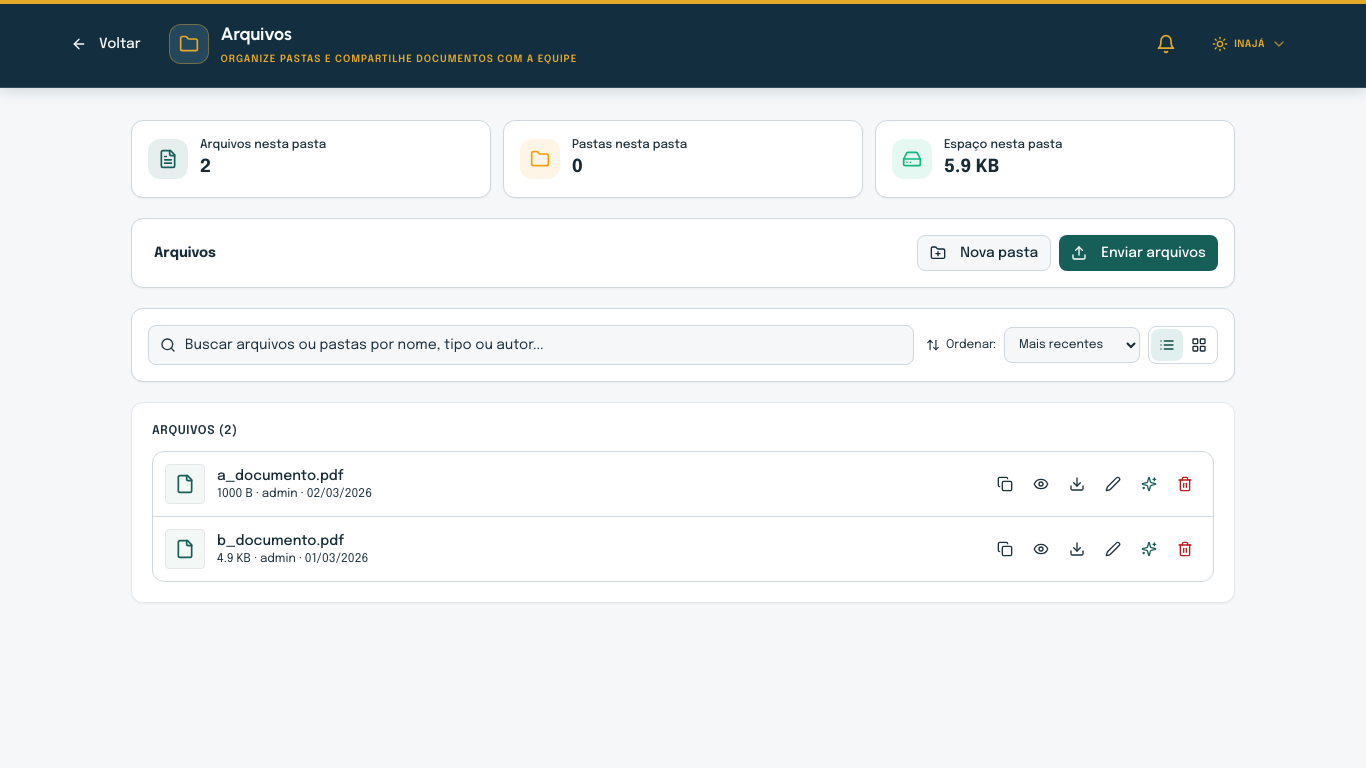
Arquivos page › permite ordenar arquivos por nome e por tamanho
Expected: the text "b_documento.pdf" is shown, [217,534,344,548]
Select "Nome (A - Z)" in the dropdown named "Ordenar arquivos": (1072, 345) [1004,327,1140,363]
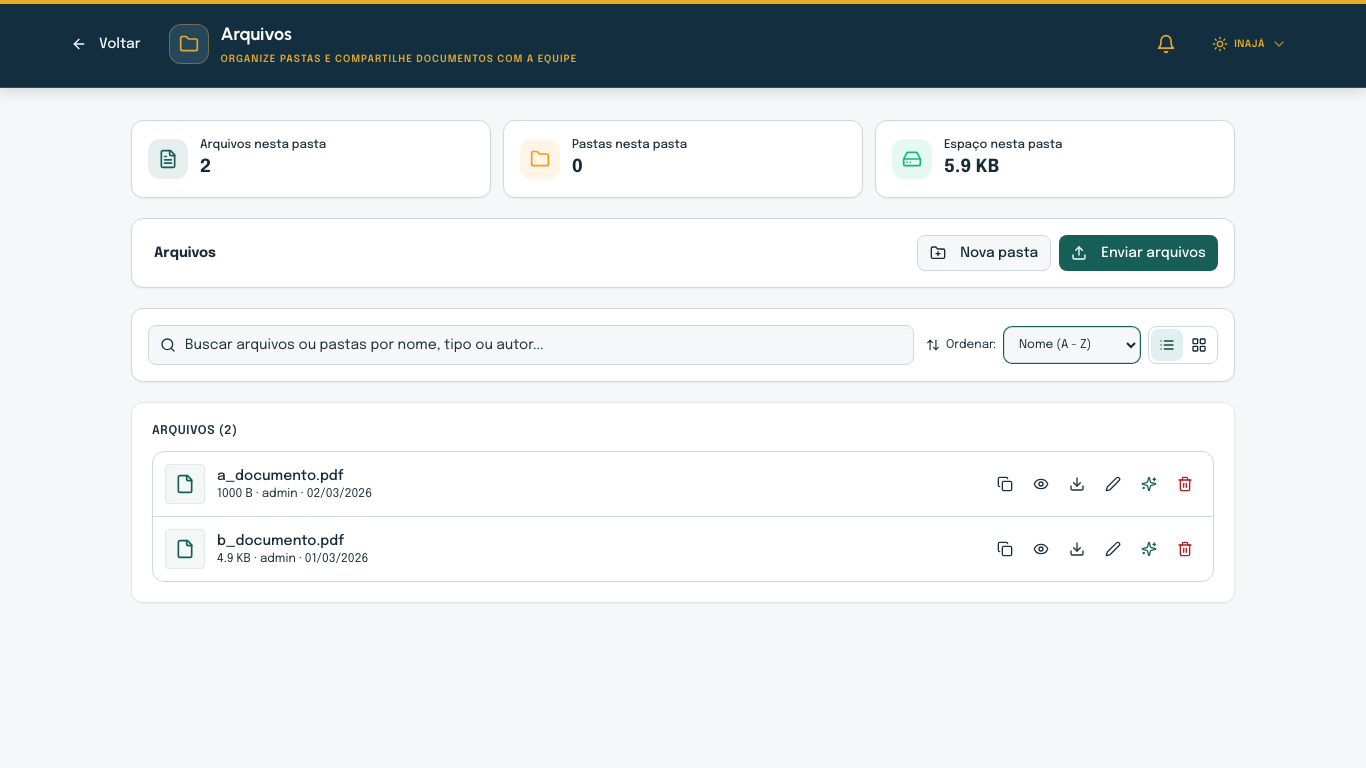
Expected: the text "a_documento.pdf" is shown, [217,469,344,483]
Expected: the text "b_documento.pdf" is shown, [217,534,344,548]
Click the button named "Visualização em grade": (1199, 345) [1183,329,1215,361]
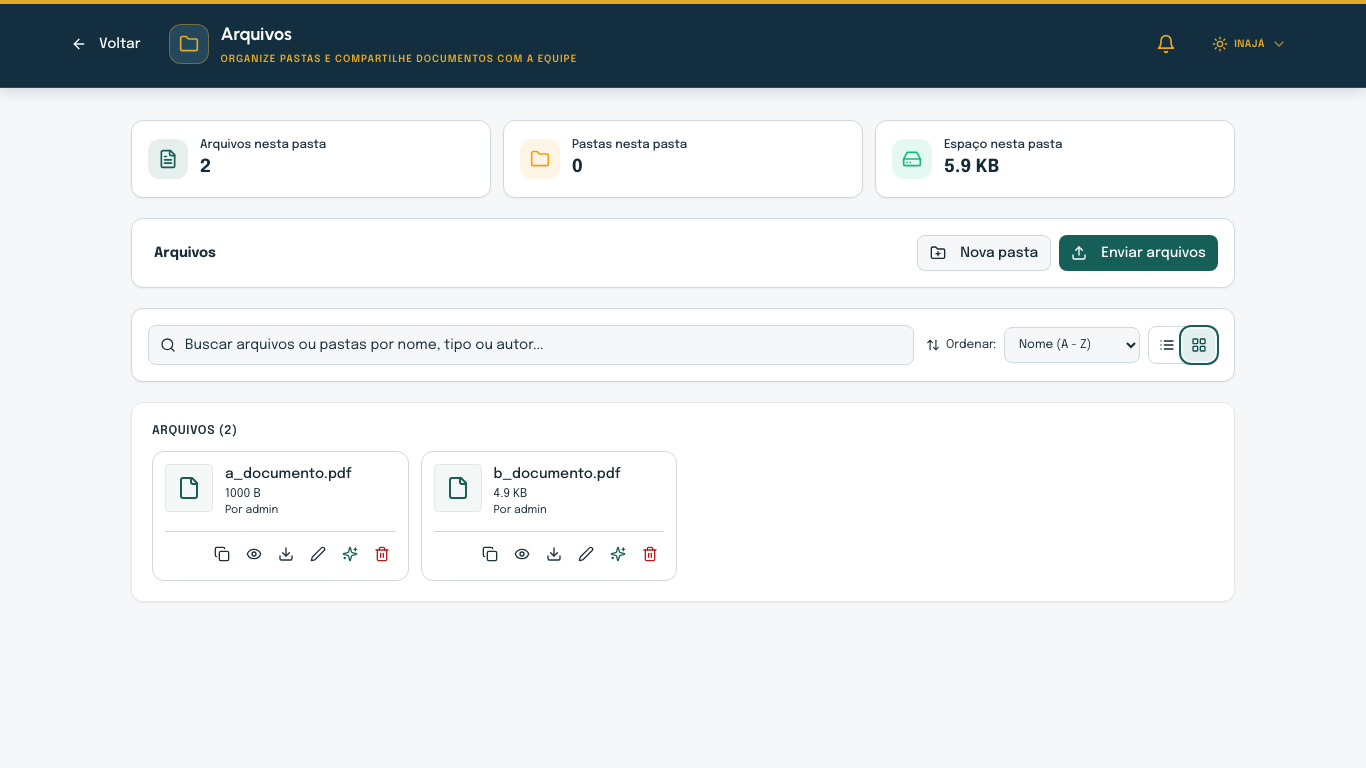
Expected: the text "Por admin" is shown 2 times, [225,504,278,516]; [494,504,547,516]
